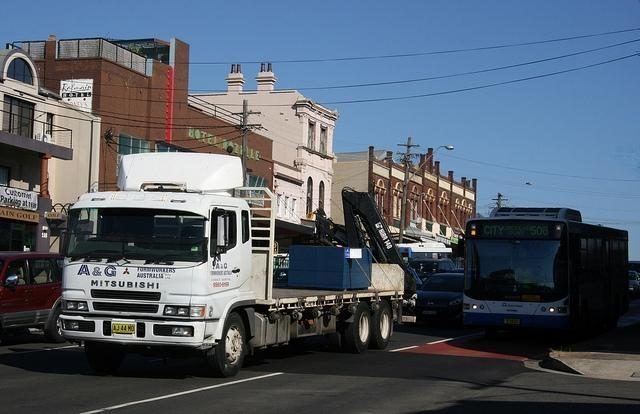bus: (463, 207, 630, 341), (395, 240, 454, 260)
car: (0, 250, 67, 343), (414, 272, 464, 324), (410, 258, 464, 280), (629, 270, 640, 292)
truck: (59, 152, 422, 378)
